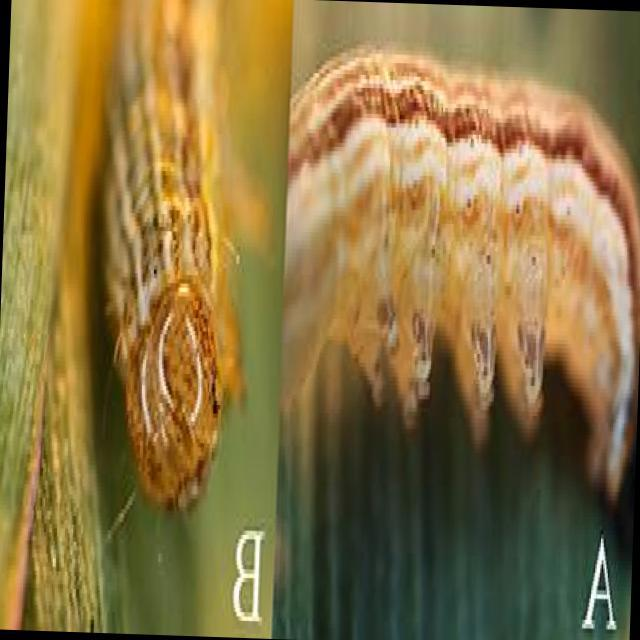Plaga: (279, 34, 640, 519), (67, 1, 270, 509)
